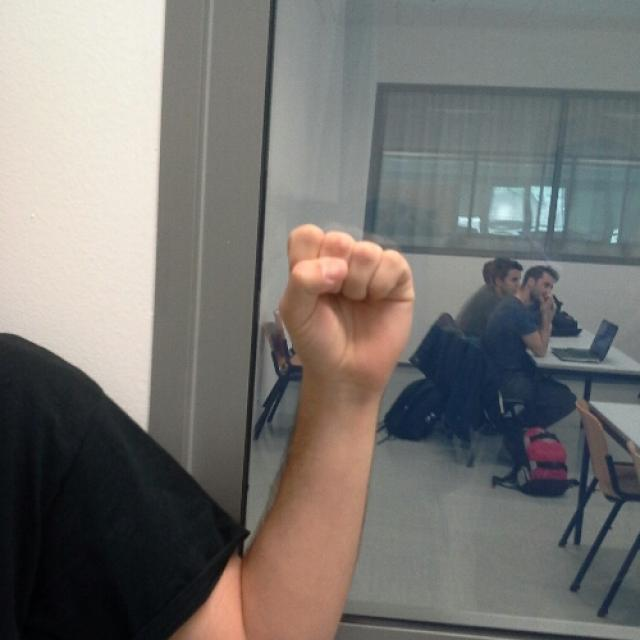rock: (276, 219, 416, 381)
